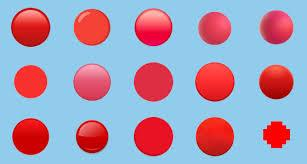red_circle: (129, 55, 180, 109), (191, 111, 242, 160), (128, 114, 181, 161), (68, 60, 118, 107), (131, 3, 178, 52), (8, 5, 58, 50), (192, 60, 237, 107), (253, 0, 294, 50), (68, 6, 115, 49), (10, 115, 52, 159), (197, 6, 238, 51), (259, 59, 299, 104), (72, 116, 114, 158), (13, 62, 52, 104)
